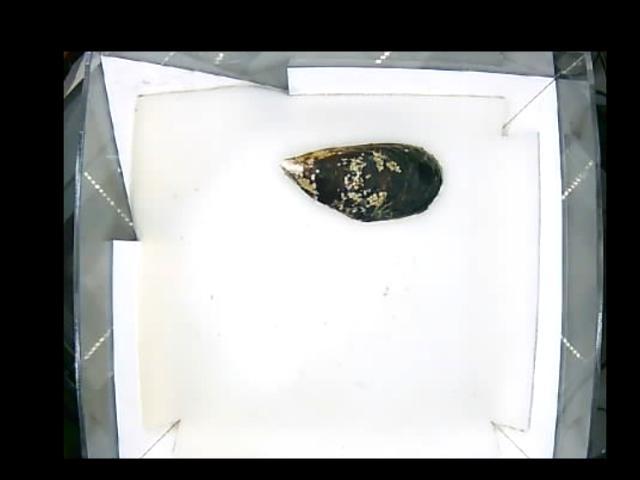Shell: (279, 142, 443, 220)
